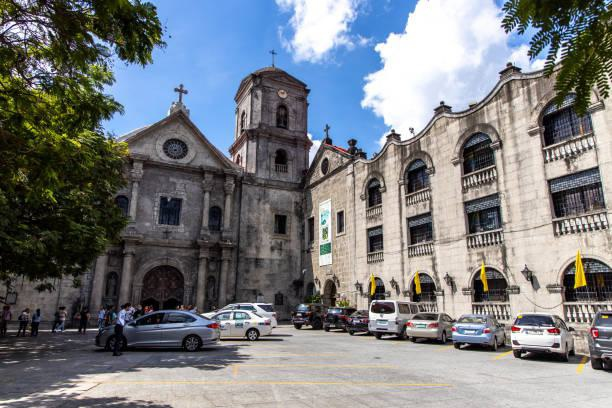san_agustin_church_intramuros_manila: (103, 40, 307, 326)
